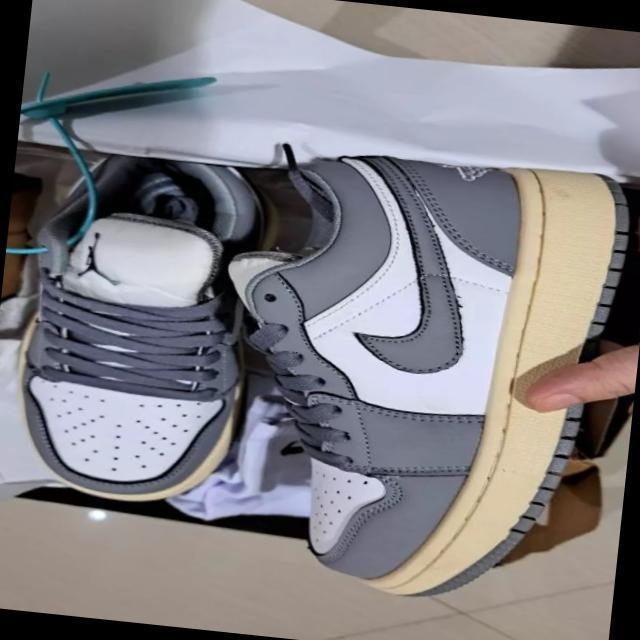nike fake jordan 1: (186, 132, 638, 620), (0, 136, 280, 516)
